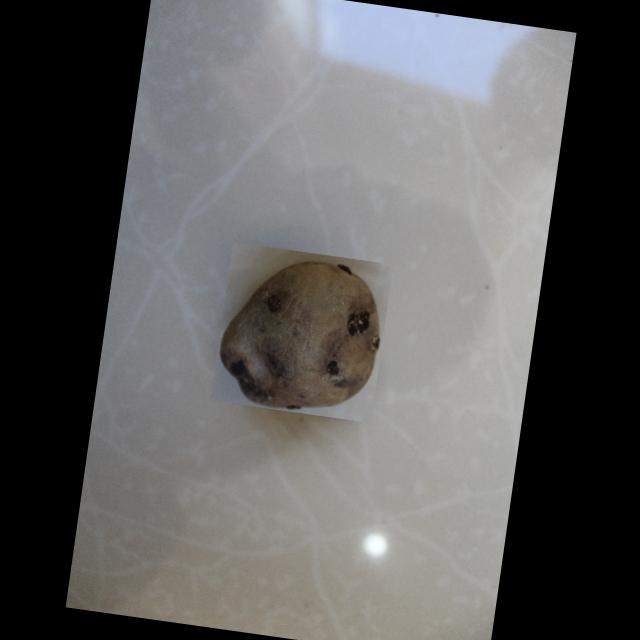Diseased-fungal potato: (210, 242, 392, 423)
